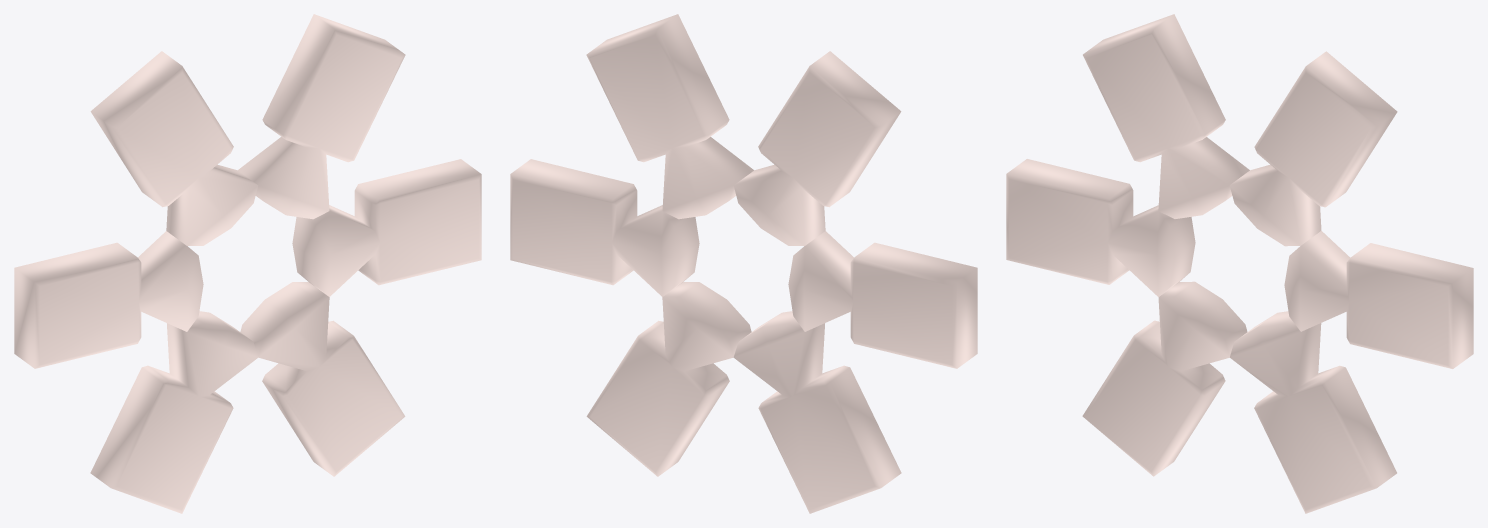
File: ps2_save-icons_virtualmegumi.glb
3 renders of one model, left to right at view 1: azimuth 30°, elevation 25°; view 2: azimuth 150°, elevation 25°; view 3: azimuth 330°, elevation 25°, orthographic.
Visible parts, largest first — view 1: icon.ico; view 2: icon.ico; view 3: icon.ico.
Part boxes in pixels (left/top/right/bottom): icon.ico: left=14, top=14, right=481, bottom=513; icon.ico: left=510, top=14, right=977, bottom=513; icon.ico: left=1006, top=14, right=1473, bottom=513.
Bounding box in the file's own units: 4.18 × 4 × 0.3696.
1 material, 1 textured.
